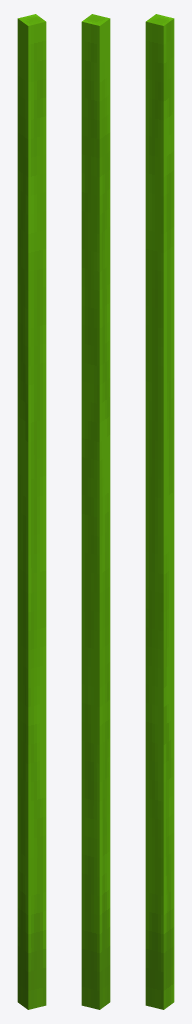
The model's file is grass.fbx.
The picture shows the model from 3 angles, left to right: view 1: azimuth 30°, elevation 25°; view 2: azimuth 150°, elevation 25°; view 3: azimuth 330°, elevation 25°; orthographic projection.
Visible parts, largest first — view 1: cube_1, cube; view 2: cube_1, cube; view 3: cube_1, cube.
Part boxes in pixels (x1,y1,x2,y2): cube_1: [17, 14, 46, 706]; cube: [17, 700, 46, 1009]; cube_1: [81, 14, 110, 706]; cube: [81, 700, 110, 1009]; cube_1: [145, 14, 174, 706]; cube: [145, 700, 174, 1009].
Size of the model in its own units: 1.56 by 81.25 by 1.56.
